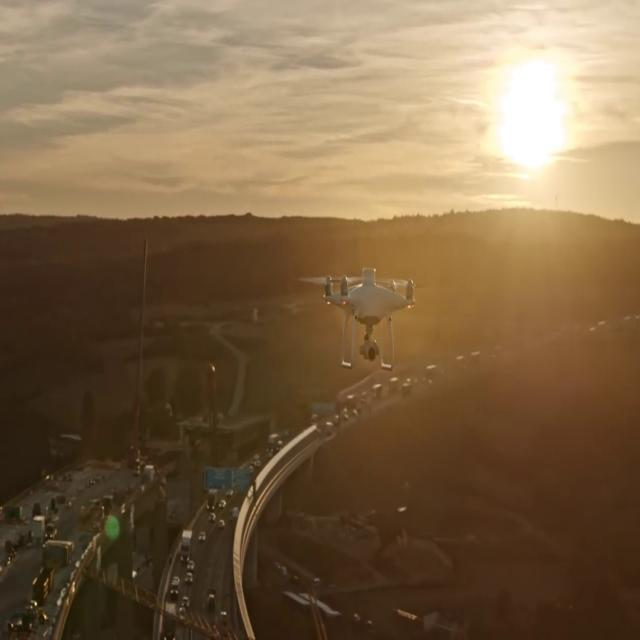drone: (297, 264, 421, 372)
